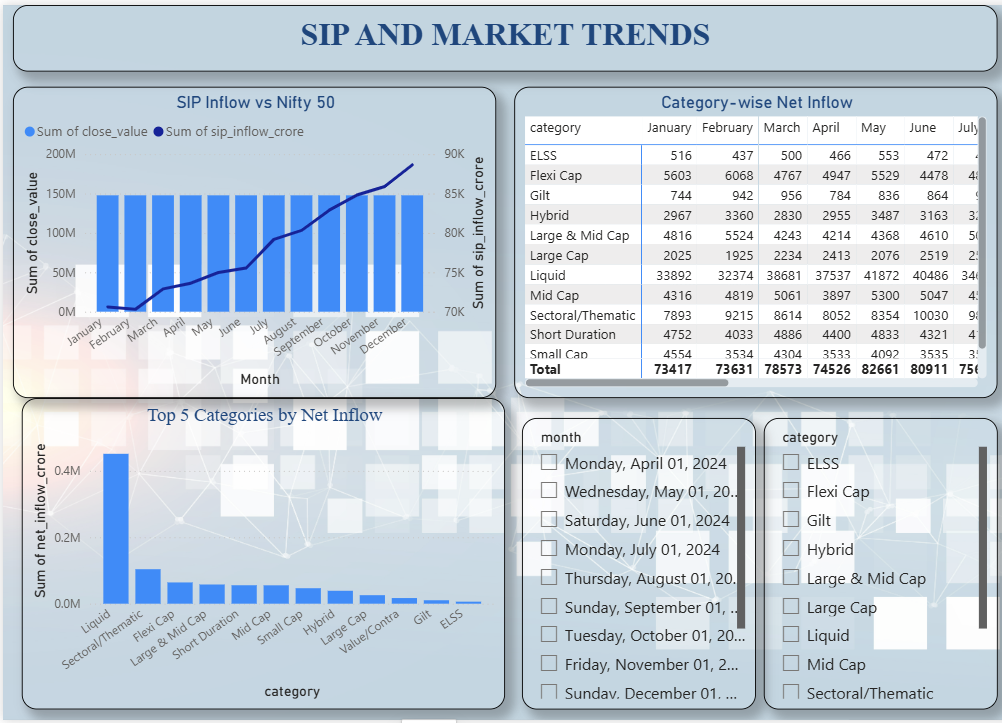

Layout of this report page (visuals, bound fields, positions):
{"tool":"powerbi","page":{"name":"Page 4","canvas":[1280,720],"ordinal":3},"visuals":[{"type":"textbox","box":[10,0,991.1,66.7],"z":0},{"type":"lineClusteredColumnComboChart","title":"SIP Inflow vs Nifty 50","fields":{"Y":["Sum(10_benchmark_indices.close_value)"],"Y2":["Sum(04_monthly_sip_inflows.sip_inflow_crore)"],"Category":["04_monthly_sip_inflows.month.Variation.Date Hierarchy.Month"]},"box":[10.1,82.2,486.7,313.2],"z":1},{"type":"pivotTable","title":"Category-wise Net Inflow","fields":{"Rows":["05_category_inflows.category"],"Columns":["05_category_inflows.month.Variation.Date Hierarchy.Month"],"Values":["Sum(05_category_inflows.net_inflow_crore)"]},"box":[514.4,82.2,486.7,313.3],"z":2},{"type":"lineClusteredColumnComboChart","title":"Top 5 Categories by Net Inflow","fields":{"Category":["05_category_inflows.category"],"Y":["Sum(05_category_inflows.net_inflow_crore)"]},"box":[18.9,395.6,486.7,313.3],"z":3},{"type":"slicer","title":"NAV VS BENCHMARK","fields":{"Values":["05_category_inflows.month"]},"box":[522.2,415.6,235.6,293.3],"z":4},{"type":"slicer","title":"NAV VS BENCHMARK","fields":{"Values":["05_category_inflows.category"]},"box":[765.6,415.6,235.6,293.3],"z":5}]}

Visuals, with their boxes on the page's 1280x720 design canvas (x1, y1, x2, y2). These are canvas units, not pixel positions in the 1002x723 screenshot, which may show the page scaled, cropped or inside an application window:
textbox: x1=10, y1=0, x2=1001, y2=67
"SIP Inflow vs Nifty 50" lineClusteredColumnComboChart: x1=10, y1=82, x2=497, y2=395
"Category-wise Net Inflow" pivotTable: x1=514, y1=82, x2=1001, y2=396
"Top 5 Categories by Net Inflow" lineClusteredColumnComboChart: x1=19, y1=396, x2=506, y2=709
"NAV VS BENCHMARK" slicer: x1=522, y1=416, x2=758, y2=709
"NAV VS BENCHMARK" slicer: x1=766, y1=416, x2=1001, y2=709
